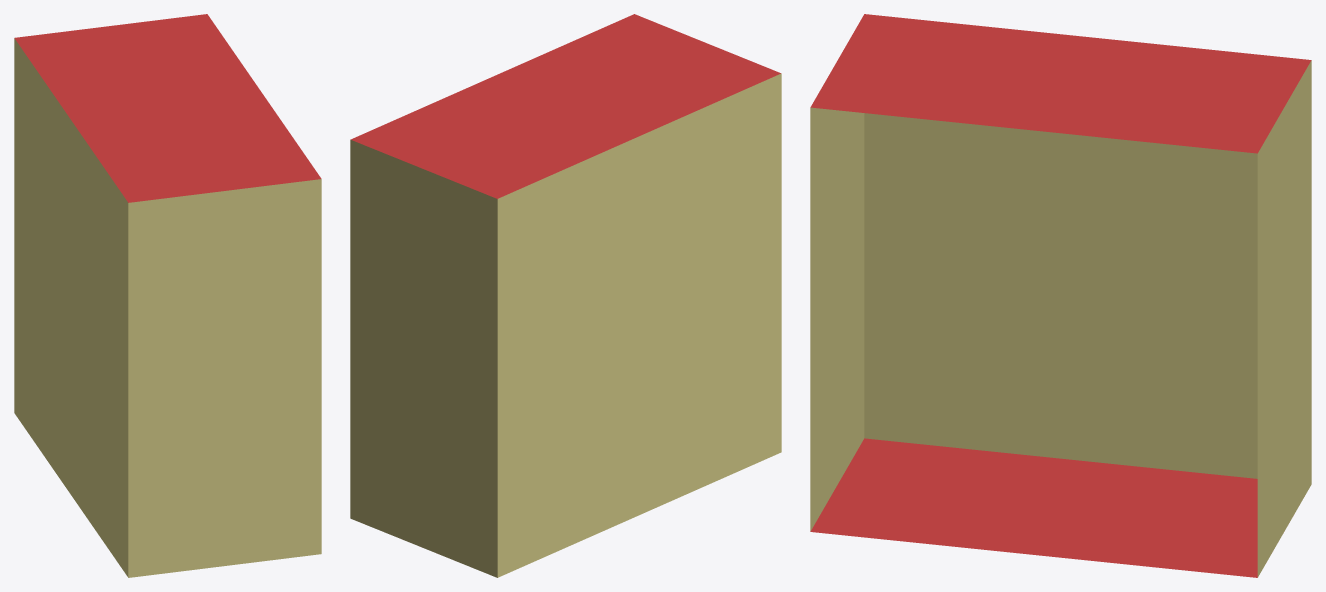
3 renders of one model, left to right at view 1: azimuth 30°, elevation 25°; view 2: azimuth 150°, elevation 25°; view 3: azimuth 270°, elevation 25°, orthographic. The views are drawn at different scales.
Visible parts, largest first — view 1: group_4, group_3; view 2: group_4, group_3; view 3: group_4, group_3, group_5.
Part boxes in pixels (box(x1,y1,x2,y2)): group_4: box(14, 38, 321, 577); group_3: box(14, 14, 321, 202); group_4: box(350, 73, 781, 577); group_3: box(351, 14, 780, 198); group_4: box(810, 60, 1311, 577); group_3: box(810, 14, 1311, 153); group_5: box(810, 438, 1257, 577).
Bounding box in the file's own units: 4.04 × 6.13 × 5.73.
